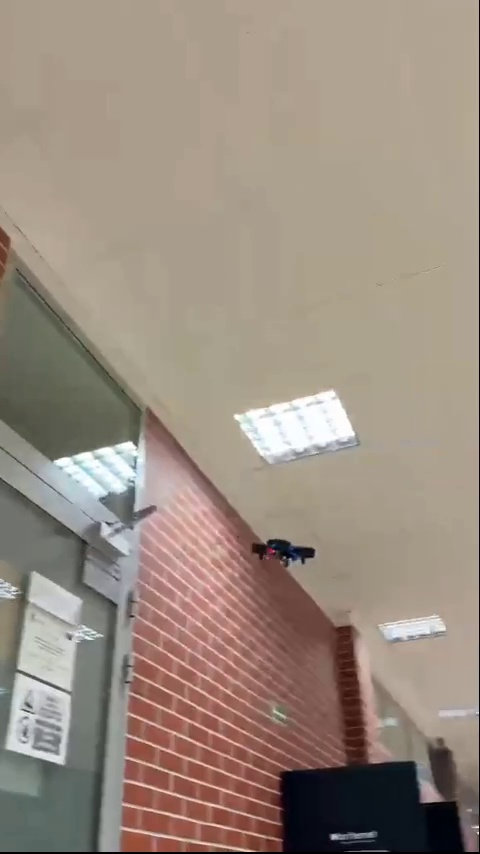drone: (251, 538, 313, 566)
